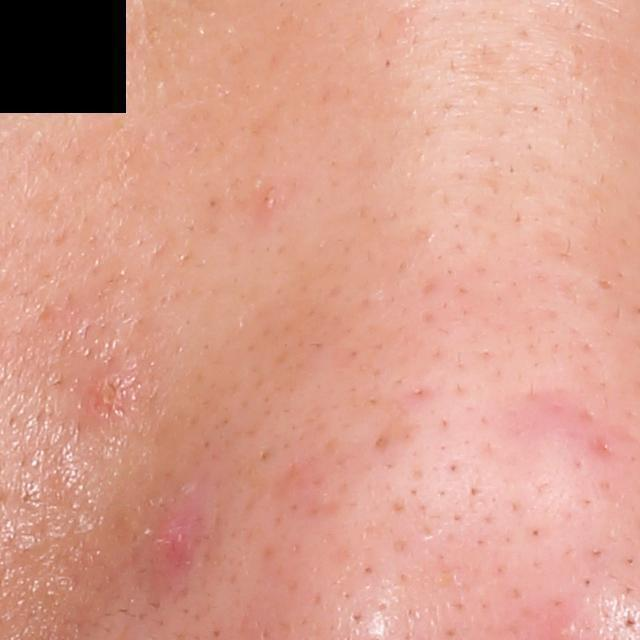papule: (78, 358, 150, 429), (147, 502, 194, 573)
